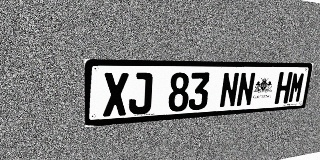3: (188, 72, 210, 111)
8: (168, 72, 191, 112)
H: (274, 72, 293, 104)
J: (128, 72, 153, 115)
M: (288, 72, 306, 103)
N: (219, 72, 240, 108), (236, 72, 256, 107)
X: (103, 73, 129, 117)
